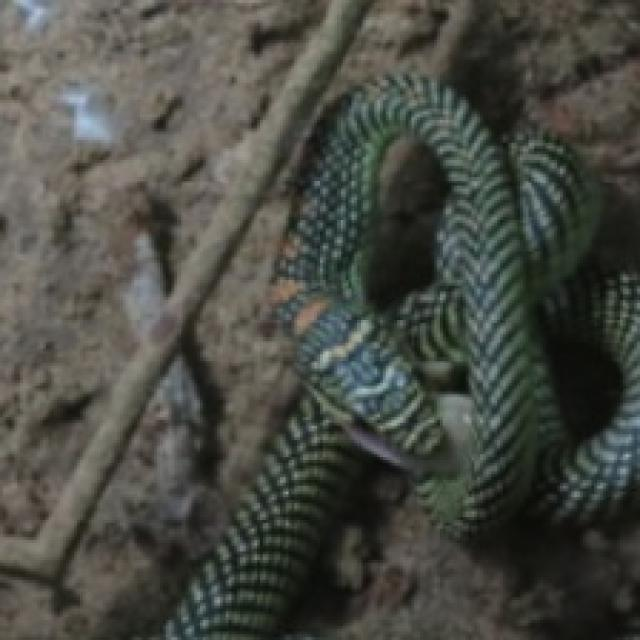paradise tree snake: (163, 74, 637, 637), (163, 77, 637, 637)
